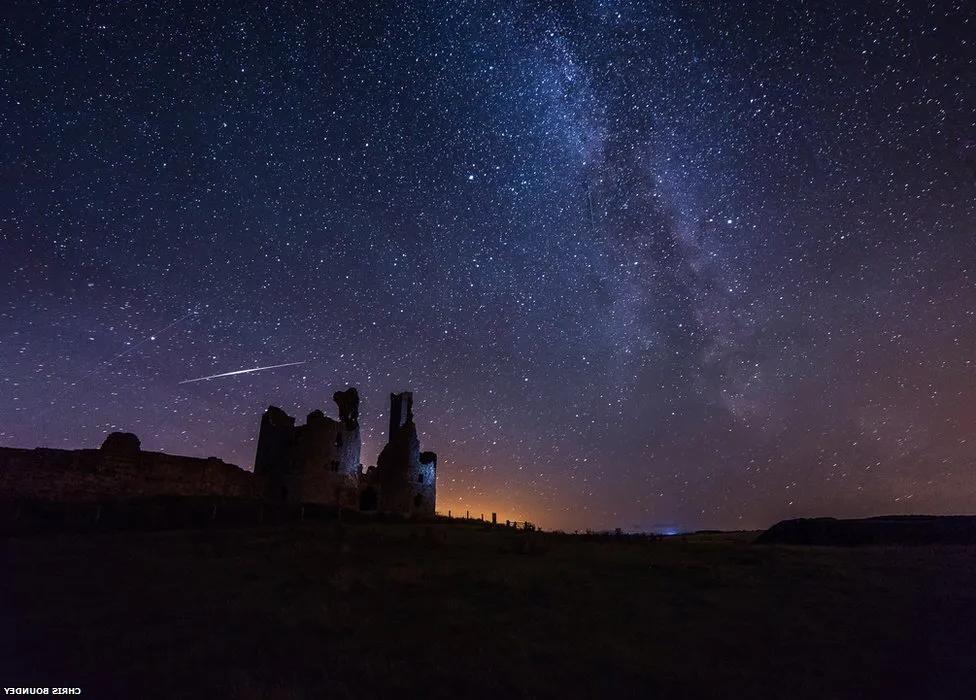meteorite: (166, 356, 338, 385)
